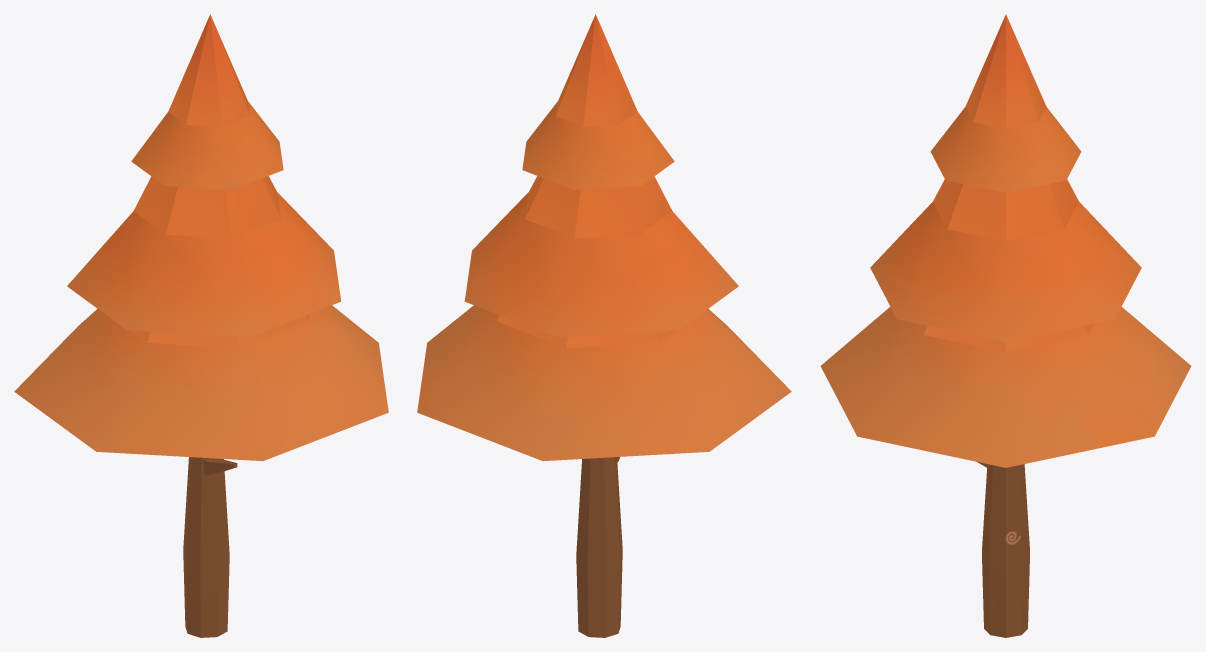
The model's file is autum.glb.
3 views of the same model, side by side, from view 1: azimuth 30°, elevation 25°; view 2: azimuth 150°, elevation 25°; view 3: azimuth 270°, elevation 25° (orthographic).
Parts seen in each view (by area): view 1: Tree, trunk; view 2: Tree, trunk; view 3: Tree, trunk.
Boxes of the visible parts, x1,y1,x2,y2 form: Tree: [14, 14, 388, 461]; trunk: [183, 457, 237, 637]; Tree: [417, 14, 791, 461]; trunk: [576, 457, 622, 637]; Tree: [820, 14, 1191, 467]; trunk: [977, 462, 1029, 637].
Size of the model in its own units: 101 by 183 by 99.71.
1 material, 1 textured.
